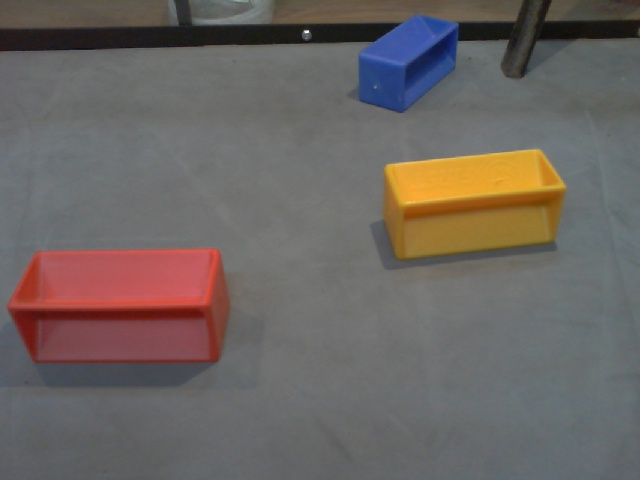BlueSample: (354, 13, 460, 114)
RedSample: (4, 240, 233, 372)
YellowSample: (378, 144, 568, 265)
